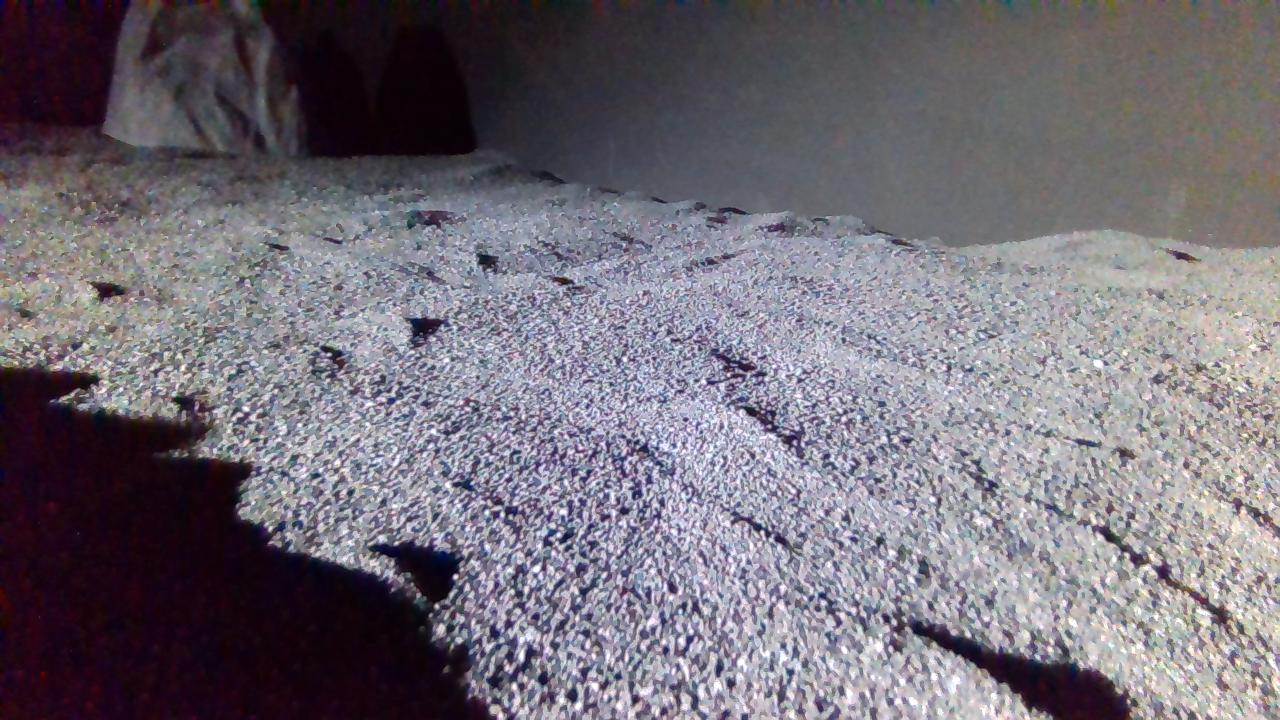rock: (101, 0, 297, 152)
